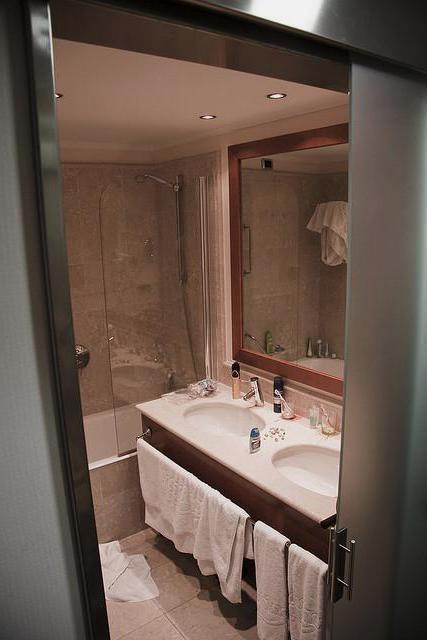Ducha: (2, 155, 203, 545)
Lavamanos: (265, 402, 367, 506), (174, 367, 271, 446)
